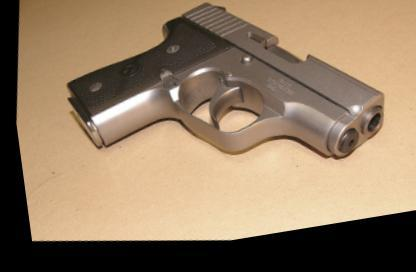pistol: (42, 0, 399, 207)
